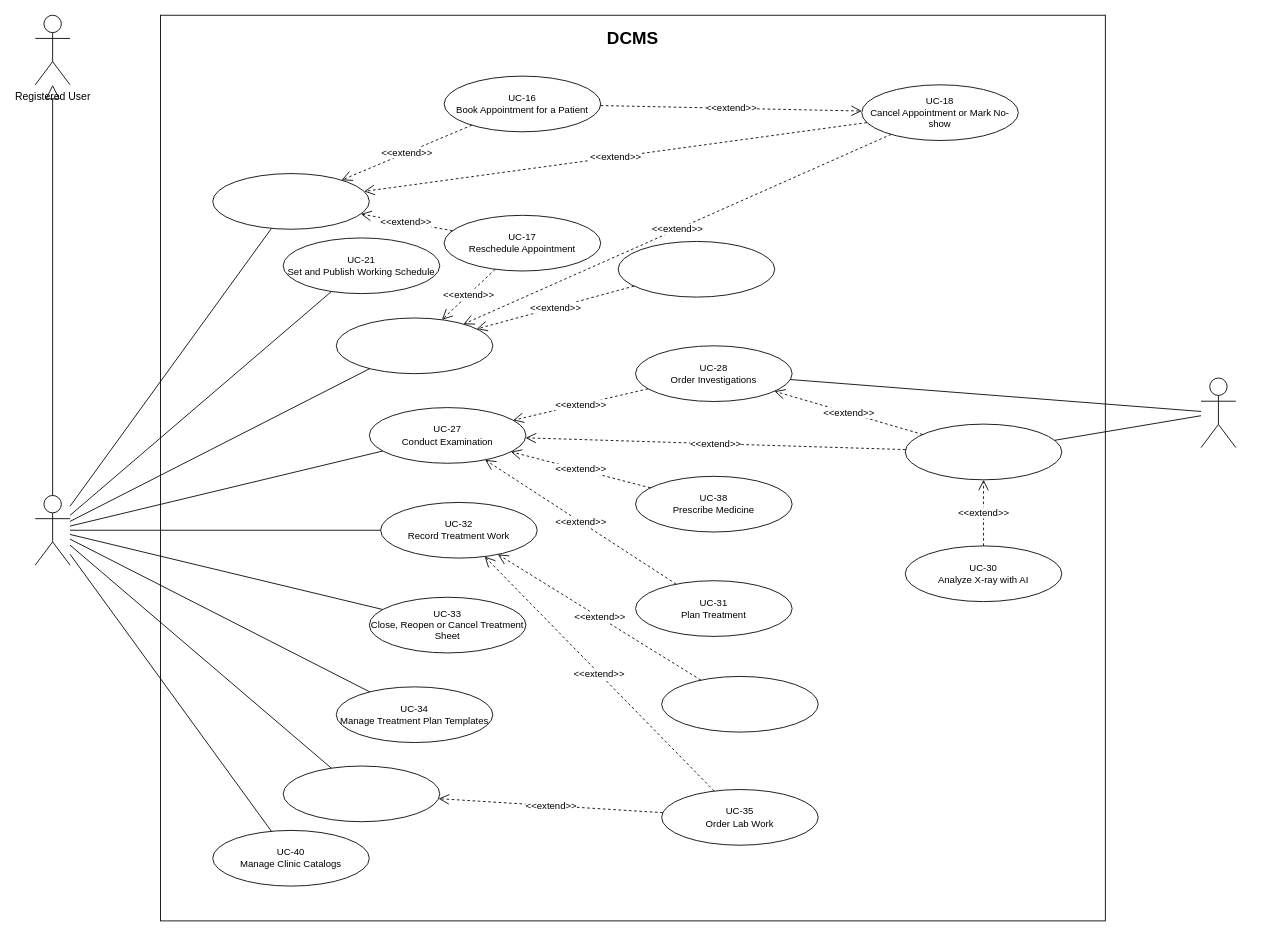
Image size: 1278x936. Some labels were removed from this diagram. Each missing label, with the centre of its shape:
"Dentist" goes at point 52,530.
"UC-15 View Appointment Calendar" goes at point 290,201.
"UC-19 Book Next Visit" goes at point 696,269.
"UC-24 Manage Patient Records" goes at point 414,345.
"UC-29 Upload and Review Examination Documents" goes at point 983,451.
"UC-36 Track Lab Work" goes at point 361,793.
"UC-37 Record Materials Used" goes at point 739,704.
"Xray/PACS System" goes at point 1218,412.
